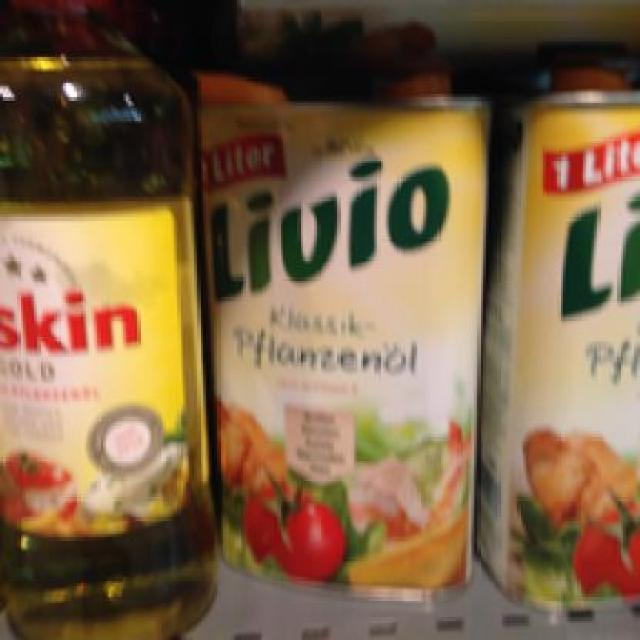Oil: (197, 77, 494, 586), (0, 0, 203, 637), (477, 69, 634, 600)
